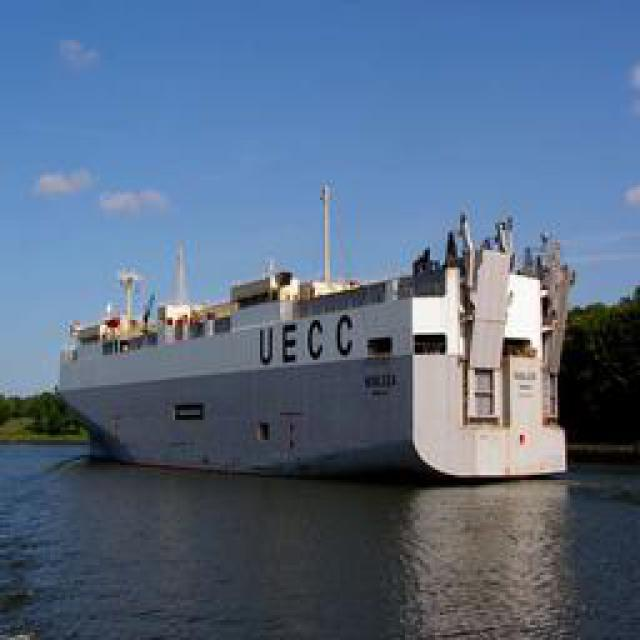Ship: (60, 173, 585, 481)
